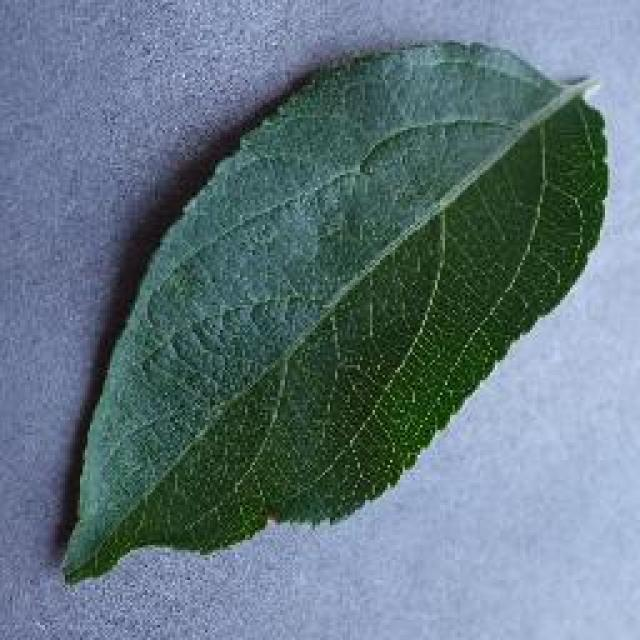apple healthy: (58, 35, 610, 585)
